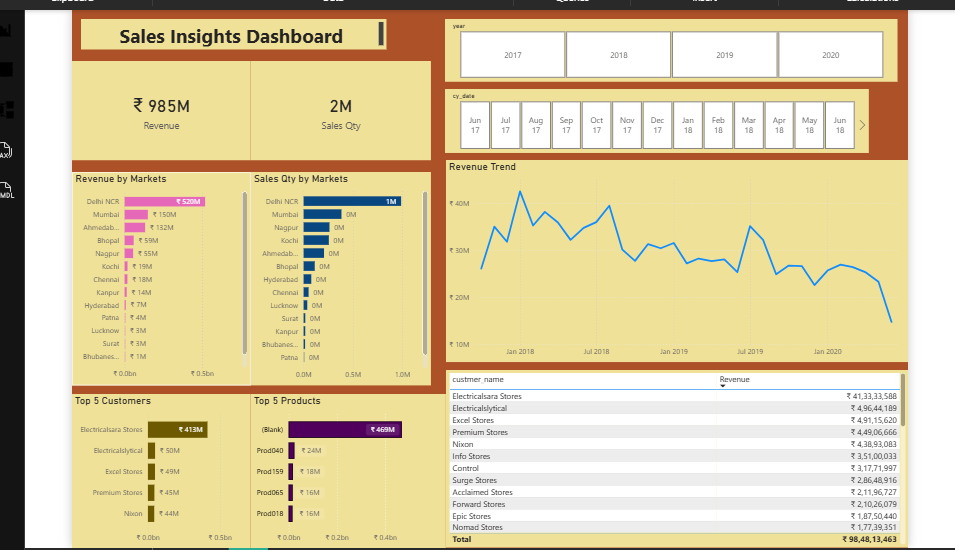

The dashboard page shown, as its layout file describes it:
{"tool":"powerbi","page":{"name":"Page 1","canvas":[1400,900],"ordinal":0},"visuals":[{"type":"card","fields":{"Values":["BaseMeasures.Revenue"]},"box":[0,0,299.5,207.6],"z":0},{"type":"card","fields":{"Values":["BaseMeasures.Sales Qty"]},"box":[299.5,0,299.5,207.6],"z":1000},{"type":"card","fields":{"Values":["BaseMeasures.Sales Qty"]},"box":[299.5,0,299.5,207.6],"z":2000},{"type":"clusteredBarChart","title":"Revenue by Markets","fields":{"Y":["BaseMeasures.Revenue"],"Category":["markets.markets_name"]},"box":[0,222.5,298.9,366.8],"z":3000},{"type":"clusteredBarChart","title":"Sales Qty by Markets","fields":{"Y":["BaseMeasures.Sales Qty"],"Category":["markets.markets_name"]},"box":[299.5,222.3,299.5,367.5],"z":4000},{"type":"slicer","fields":{"Values":["date.year"]},"box":[624.7,14.7,757,104.7],"z":5000},{"type":"slicer","fields":{"Values":["date.cy_date"]},"box":[624.7,132.3,709.2,106.6],"z":6000},{"type":"clusteredBarChart","title":"Top 5 Customers","fields":{"Y":["BaseMeasures.Revenue"],"Category":["customers.custmer_name"]},"box":[0,602.6,299.5,297.6],"z":7000},{"type":"clusteredBarChart","title":"Top 5 Products","fields":{"Y":["BaseMeasures.Revenue"],"Category":["products.product_code"]},"box":[299.5,602.6,325.2,297.6],"z":8000},{"type":"lineChart","title":"Revenue Trend","fields":{"Y":["BaseMeasures.Revenue"],"Category":["date.cy_date"]},"box":[624.9,251.3,757.4,337.9],"z":9000},{"type":"tableEx","title":"Top 5 Customers","fields":{"Values":["customers.custmer_name","BaseMeasures.Revenue"]},"box":[599,602.6,801,297.6],"z":10000}]}

Visuals, with their boxes in screenshot pixels (x1, y1, x2, y2):
card - BaseMeasures.Revenue: {"x1": 67, "y1": 5, "x2": 248, "y2": 130}
card - BaseMeasures.Sales Qty: {"x1": 248, "y1": 5, "x2": 428, "y2": 130}
card - BaseMeasures.Sales Qty: {"x1": 248, "y1": 5, "x2": 428, "y2": 130}
"Revenue by Markets" clusteredBarChart: {"x1": 67, "y1": 139, "x2": 247, "y2": 360}
"Sales Qty by Markets" clusteredBarChart: {"x1": 248, "y1": 139, "x2": 428, "y2": 360}
slicer - date.year: {"x1": 443, "y1": 14, "x2": 899, "y2": 77}
slicer - date.cy_date: {"x1": 443, "y1": 85, "x2": 870, "y2": 149}
"Top 5 Customers" clusteredBarChart: {"x1": 67, "y1": 368, "x2": 248, "y2": 547}
"Top 5 Products" clusteredBarChart: {"x1": 248, "y1": 368, "x2": 443, "y2": 547}
"Revenue Trend" lineChart: {"x1": 443, "y1": 156, "x2": 900, "y2": 360}
"Top 5 Customers" tableEx: {"x1": 428, "y1": 368, "x2": 910, "y2": 547}
